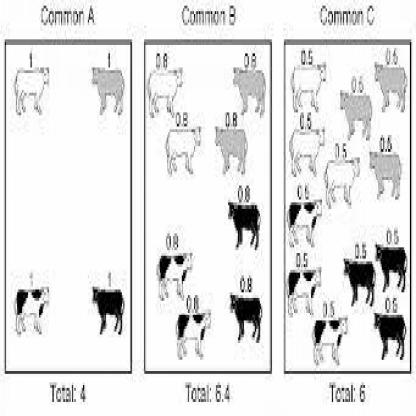cow: (13, 63, 50, 117), (290, 60, 327, 114), (323, 155, 360, 208), (287, 195, 323, 249), (174, 309, 212, 360), (311, 315, 349, 365), (146, 68, 183, 118), (165, 124, 202, 174), (286, 266, 323, 316), (157, 250, 193, 301), (289, 125, 325, 176), (340, 88, 374, 142), (374, 59, 408, 112), (374, 308, 408, 361), (15, 285, 50, 336), (91, 66, 125, 117), (91, 285, 125, 336), (227, 200, 261, 250), (342, 256, 376, 306), (374, 242, 408, 292), (233, 66, 266, 117), (216, 127, 249, 177), (230, 292, 262, 343), (370, 150, 401, 201)
